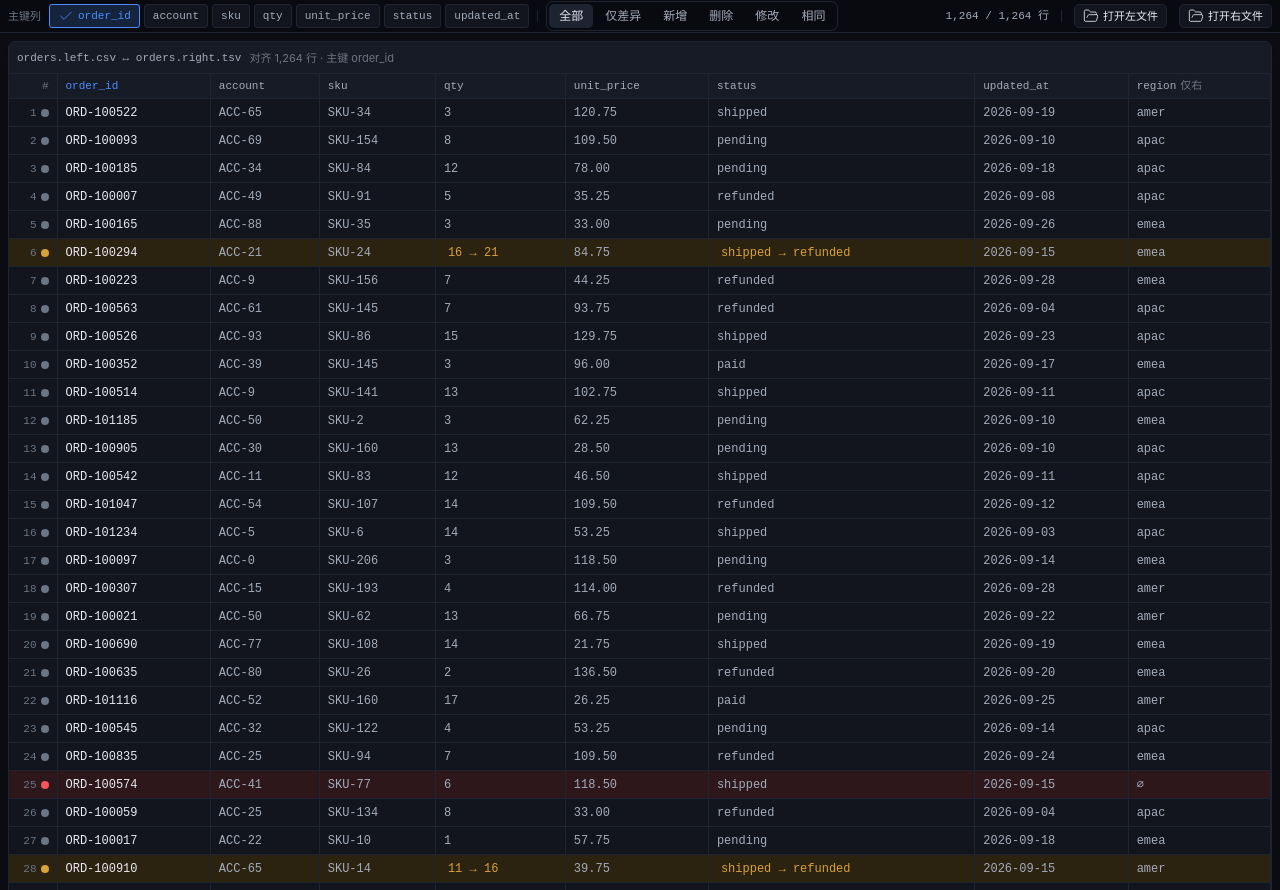
it: CsvView › switches primary keys and recomputes the alignment
A second key column: keys stay unique, so the counts are unchanged.
What coordinates should you click on to do the following:
click the button "sku"
I would click on:
 (231, 16)
Its box is [212,4,250,28].
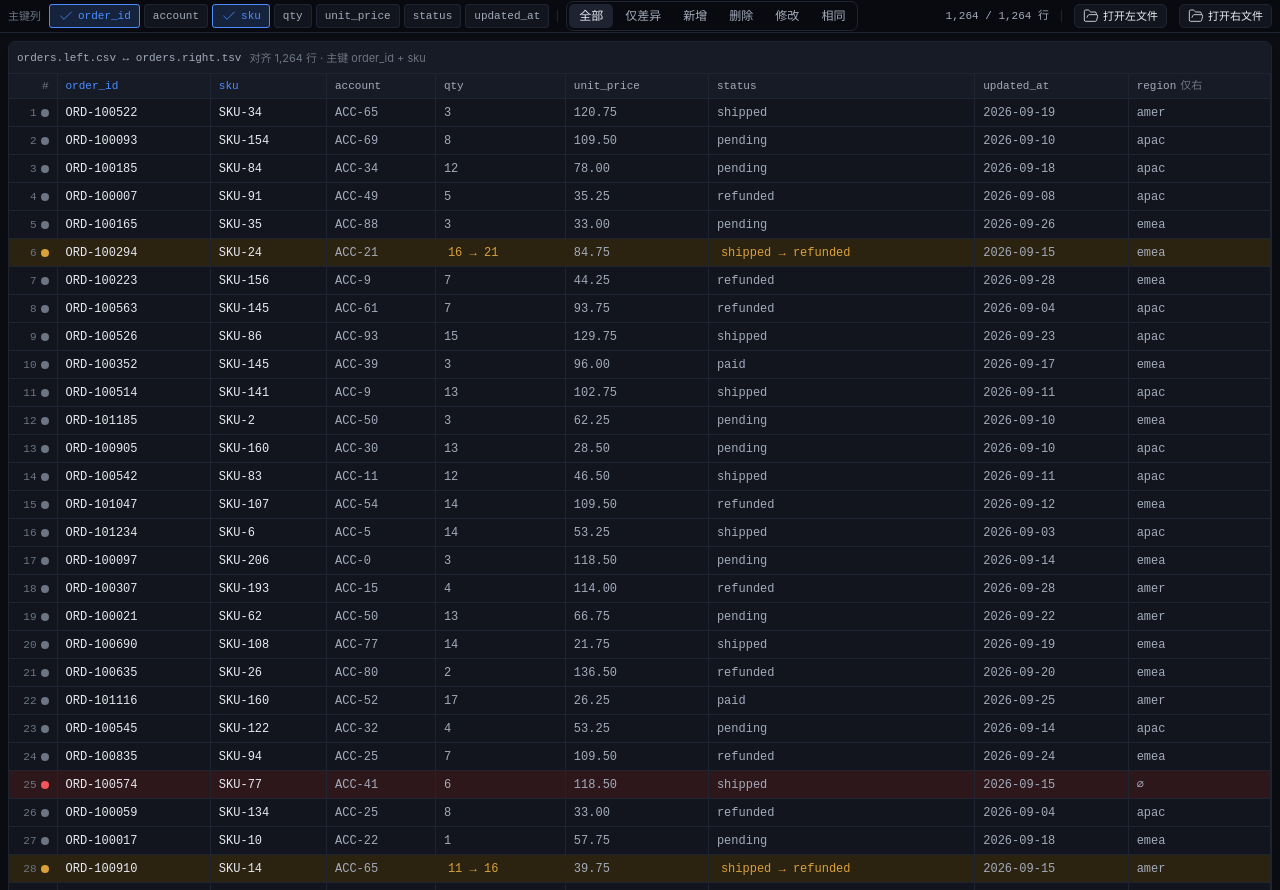
expect the text "对齐 1,264 行 · 主键 order_id + sku" is shown: met, box [249,50,426,66]
Switching to a colliding key changes the runtime counts.
What coordinates should you click on to do the following:
click the button "order_id"
I would click on:
 (94, 16)
Its box is [49,4,140,28].
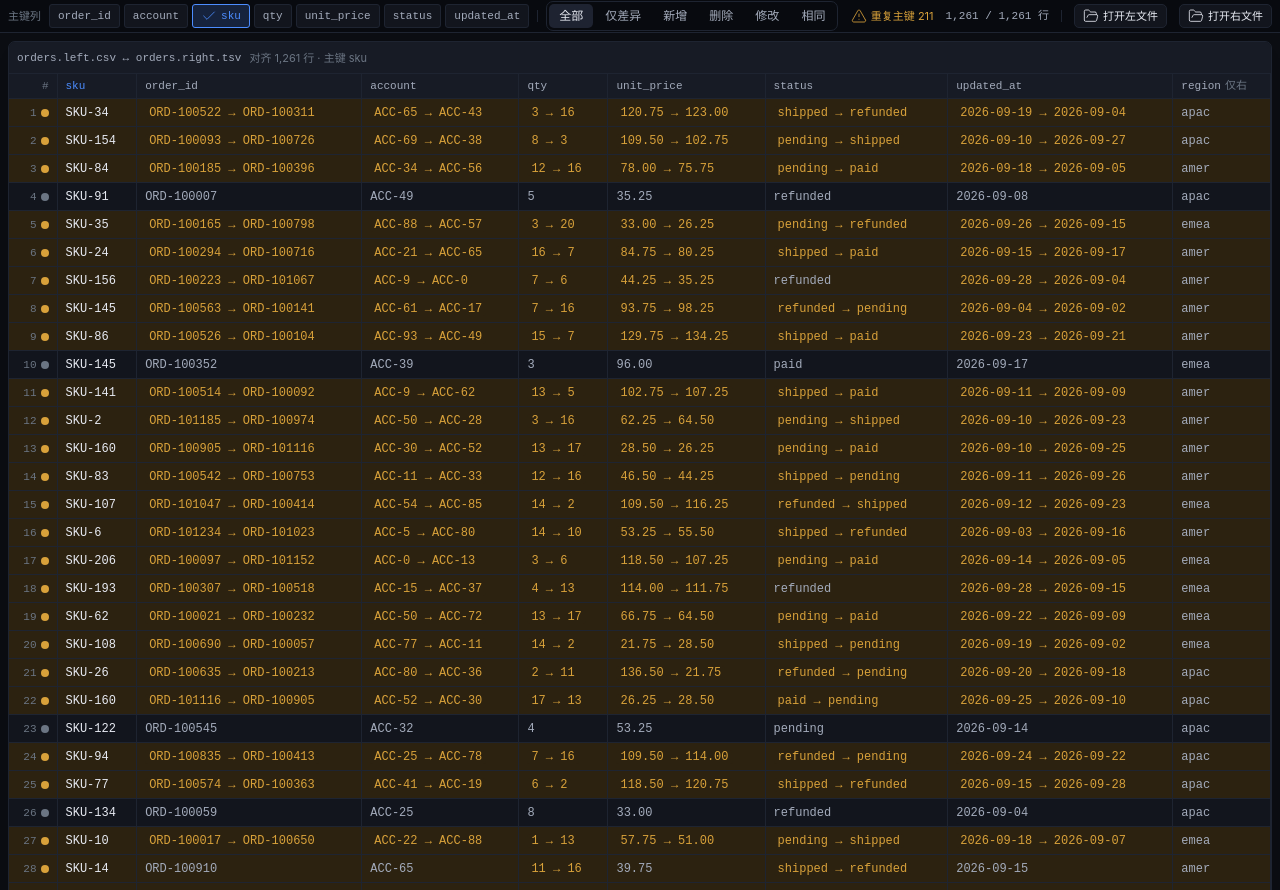
expect the text "对齐 1,261 行 · 主键 sku" is shown: met, box [249,50,367,66]
